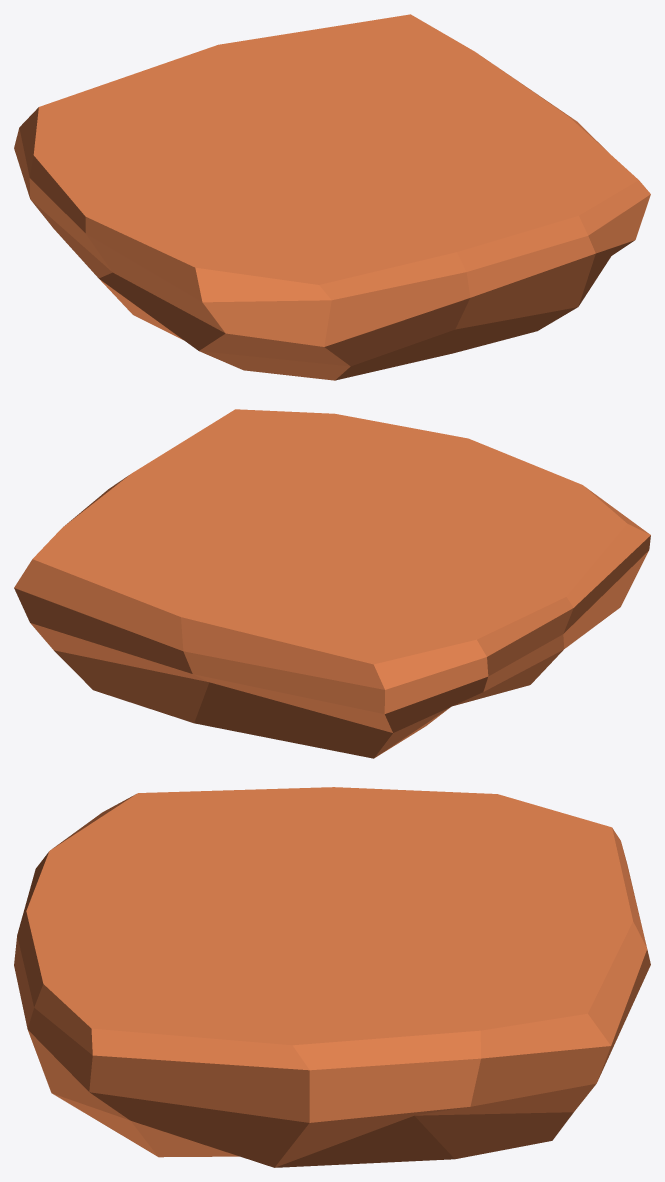
Rendered from Island2.fbx.
The picture shows the model from 3 angles, top to bottom: view 1: azimuth 30°, elevation 25°; view 2: azimuth 150°, elevation 25°; view 3: azimuth 270°, elevation 25°; orthographic projection. The views are drawn at different scales.
Parts seen in each view (by area): view 1: Cylinder.001; view 2: Cylinder.001; view 3: Cylinder.001.
Boxes of the visible parts, left/top/right/bottom form: Cylinder.001: left=14, top=14, right=650, bottom=380; Cylinder.001: left=14, top=409, right=650, bottom=758; Cylinder.001: left=14, top=787, right=650, bottom=1167.
Size of the model in its own units: 1369 by 433 by 1341.
